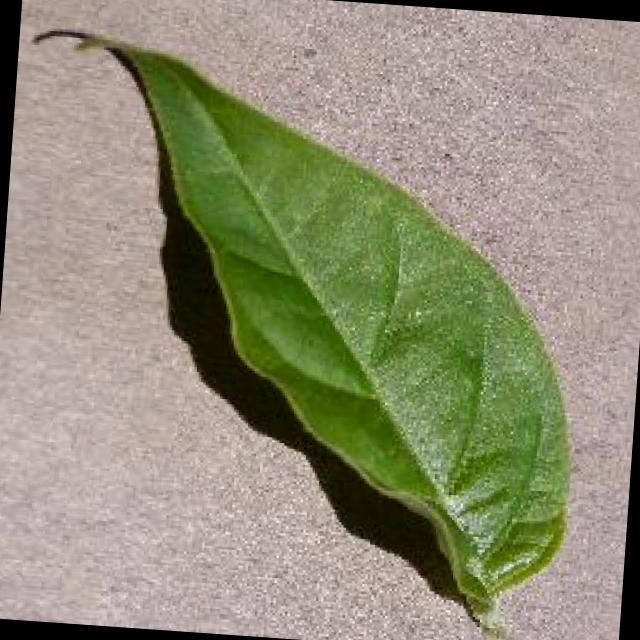Leaf: (7, 13, 640, 632)
